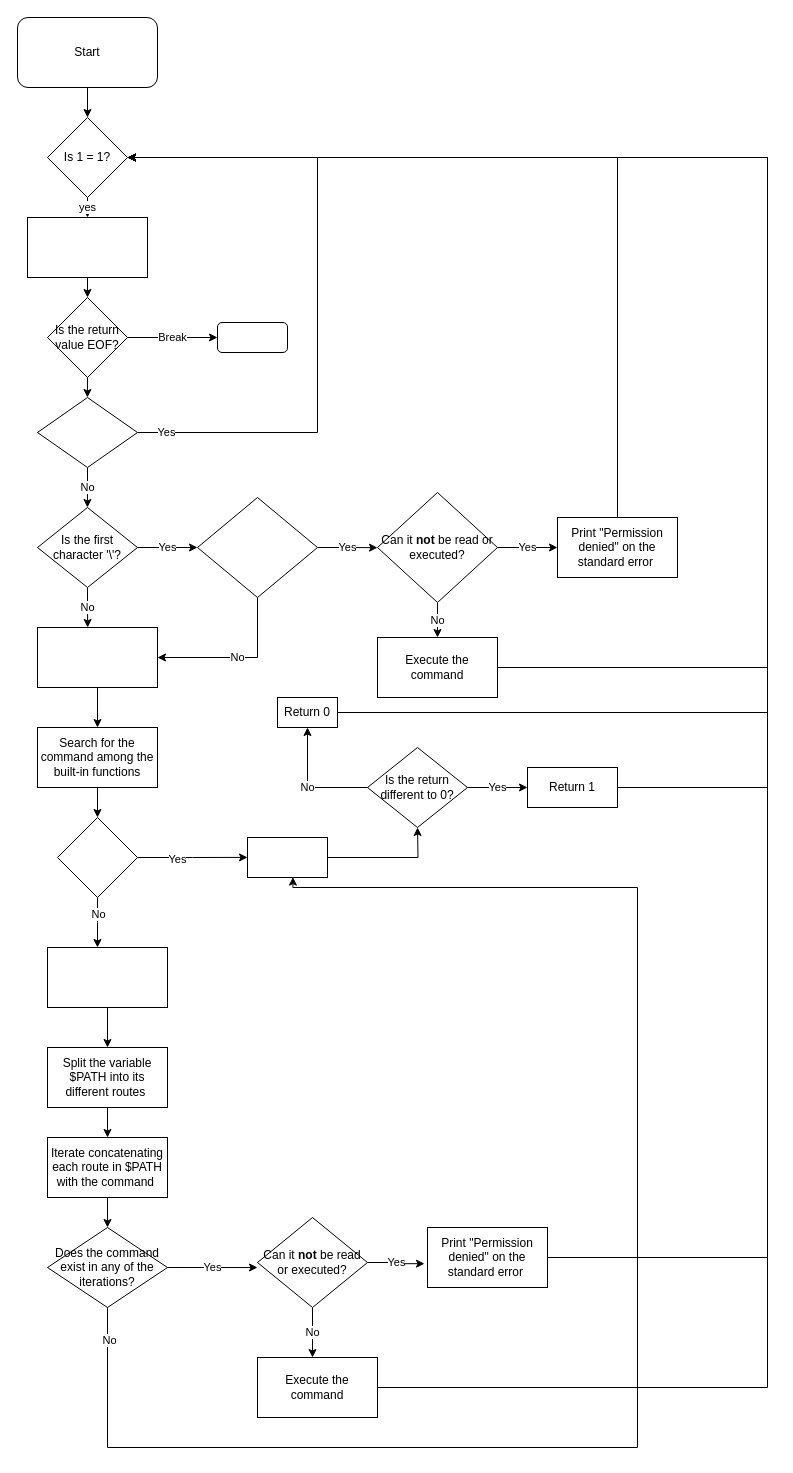
This 793x1473 diagram has some shape labels left out. Each missing label, with the centre of its shape:
"Does the command exist on the route given?" goes at point (257, 547).
"End" goes at point (252, 337).
"Execute" goes at point (287, 857).
"Get the variable $PATH from the environment" goes at point (107, 977).
"Is it a built in function?" goes at point (97, 857).
"Is the first character '\n'?" goes at point (87, 432).
"Print the prompt and get the commands from the line" goes at point (87, 247).
"Split the command into its different arguments" goes at point (97, 657).
